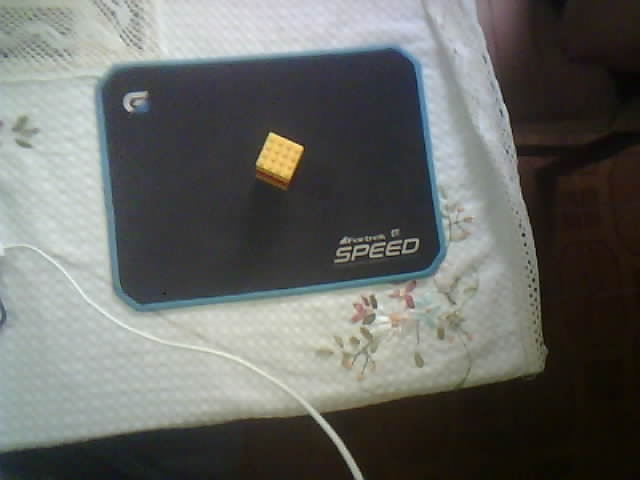lego: (254, 130, 304, 192)
